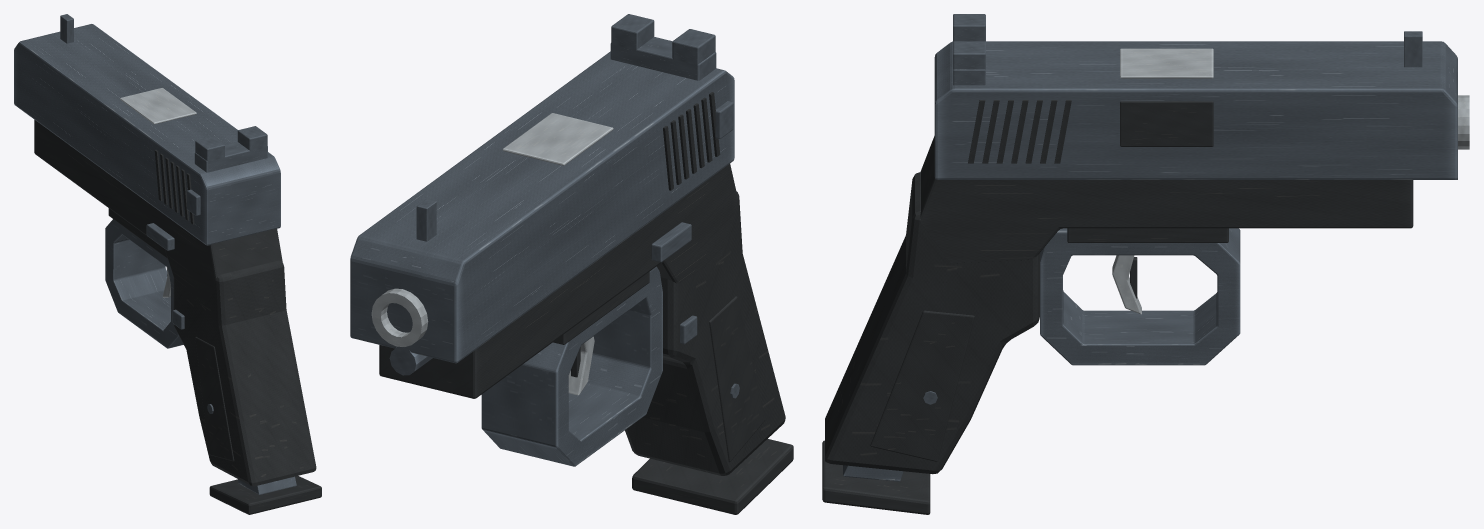
Rendered from glock.glb.
3 views of the same model, side by side, from view 1: azimuth 30°, elevation 25°; view 2: azimuth 150°, elevation 25°; view 3: azimuth 270°, elevation 25° (orthographic). The views are drawn at different scales.
Parts seen in each view (by area): view 1: glock_Body, glock_Slide, glock_Magazine; view 2: glock_Body, glock_Slide, glock_Magazine; view 3: glock_Body, glock_Slide, glock_Magazine.
Boxes of the visible parts, x1,y1,x2,y2 form: glock_Body: (34, 88, 316, 486); glock_Slide: (14, 14, 280, 245); glock_Magazine: (209, 476, 321, 514); glock_Body: (371, 101, 785, 475); glock_Slide: (350, 14, 734, 363); glock_Magazine: (632, 439, 793, 514); glock_Body: (825, 48, 1469, 474); glock_Slide: (934, 14, 1457, 179); glock_Magazine: (822, 440, 930, 514).
Bounding box in the file's own units: 0.088 × 0.3507 × 0.449.
3 materials, 3 textured.
